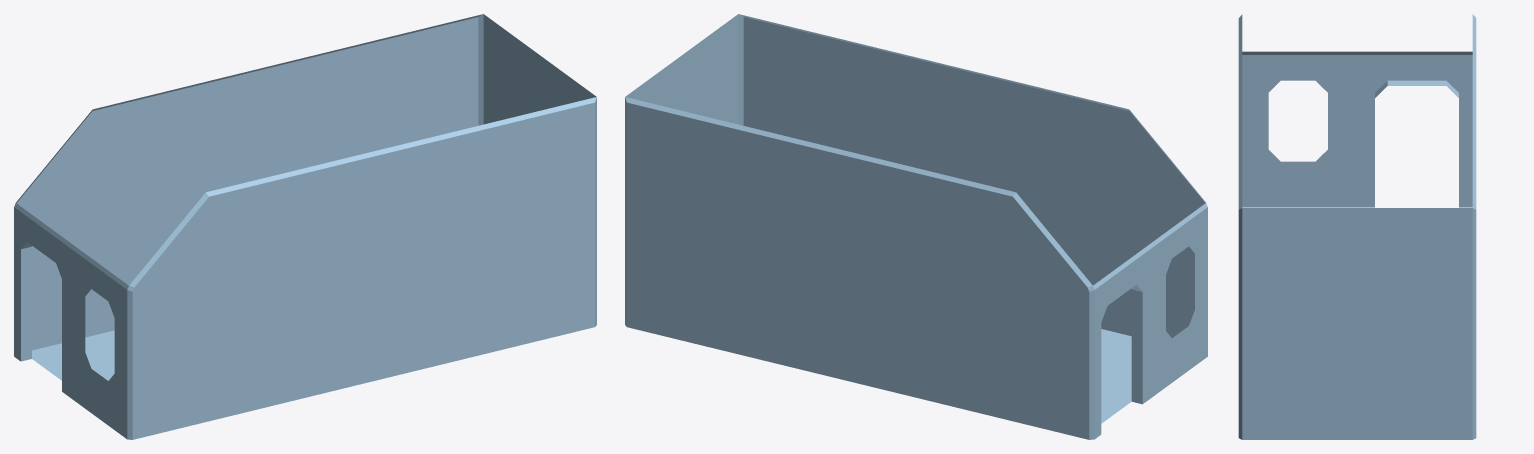
Rendered from Bld_R_low_L4_C.fbx.
The picture shows the model from 3 angles, left to right: view 1: azimuth 30°, elevation 25°; view 2: azimuth 150°, elevation 25°; view 3: azimuth 270°, elevation 25°; orthographic projection.
Visible parts, largest first — view 1: Bld_R_low_L4_C_LOD0; view 2: Bld_R_low_L4_C_LOD0; view 3: Bld_R_low_L4_C_LOD0.
Part boxes in pixels (x1,y1,x2,y2): Bld_R_low_L4_C_LOD0: (14, 14, 596, 439); Bld_R_low_L4_C_LOD0: (625, 14, 1207, 439); Bld_R_low_L4_C_LOD0: (1238, 14, 1476, 439).
Size of what is drawn, in the model's own units: 1400 by 806 by 717.
1 material, 1 textured.
